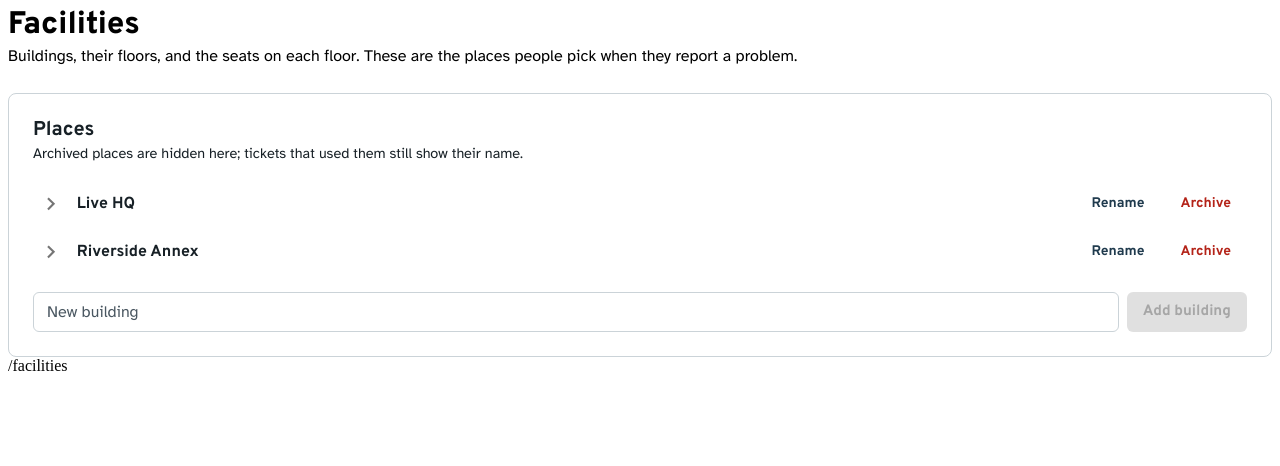
FacilitiesPage › says when a floor has nothing under it
This screenshot has width=1280, height=466.
Click the button named "Show floors in Live HQ". click: (51, 204)
box: [33,186,69,222]
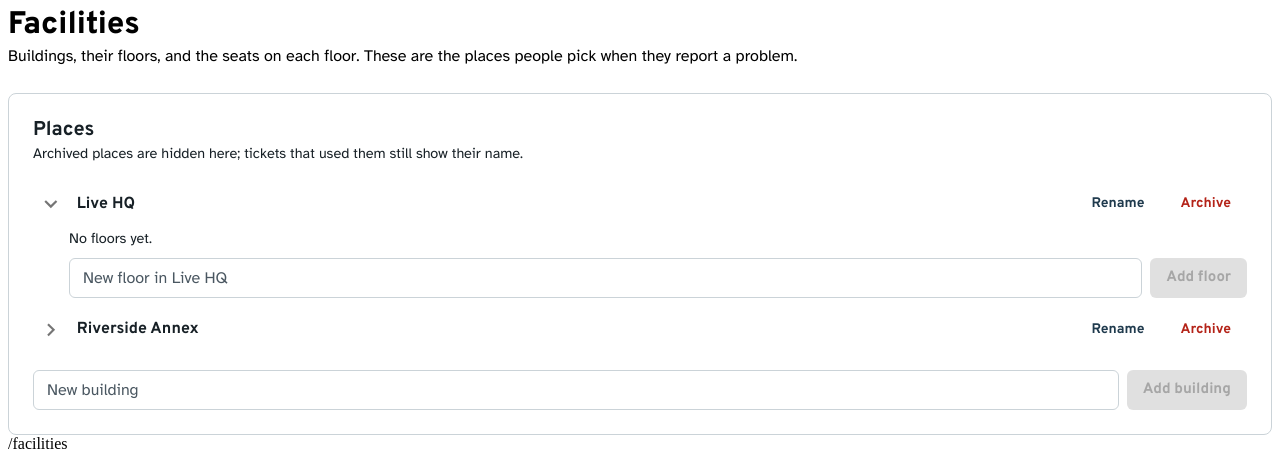
Now the text "No floors yet." is shown, box [69,229,152,247]
